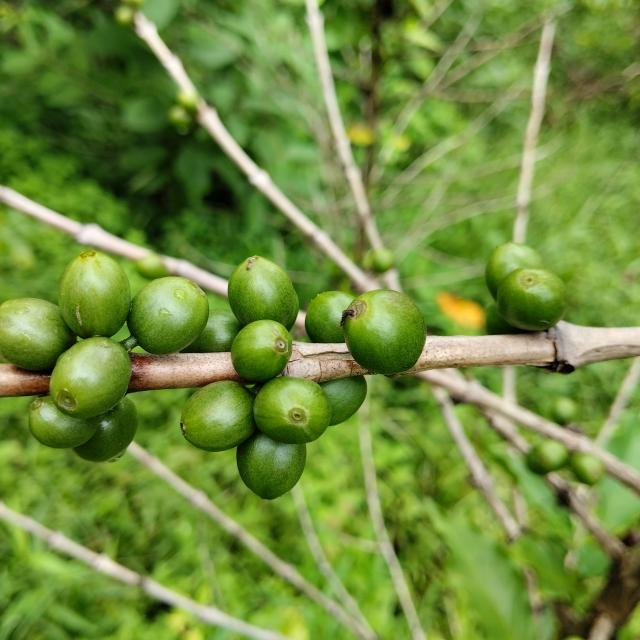green: (342, 289, 427, 375), (49, 337, 131, 419), (58, 250, 130, 339), (126, 277, 209, 354), (0, 298, 76, 371), (228, 255, 299, 331), (180, 381, 256, 452), (253, 377, 332, 445), (236, 430, 306, 500), (497, 268, 568, 331), (73, 397, 138, 462), (231, 320, 292, 382), (28, 396, 98, 449), (486, 242, 545, 300), (180, 309, 243, 353), (305, 291, 355, 343), (319, 376, 368, 426)
